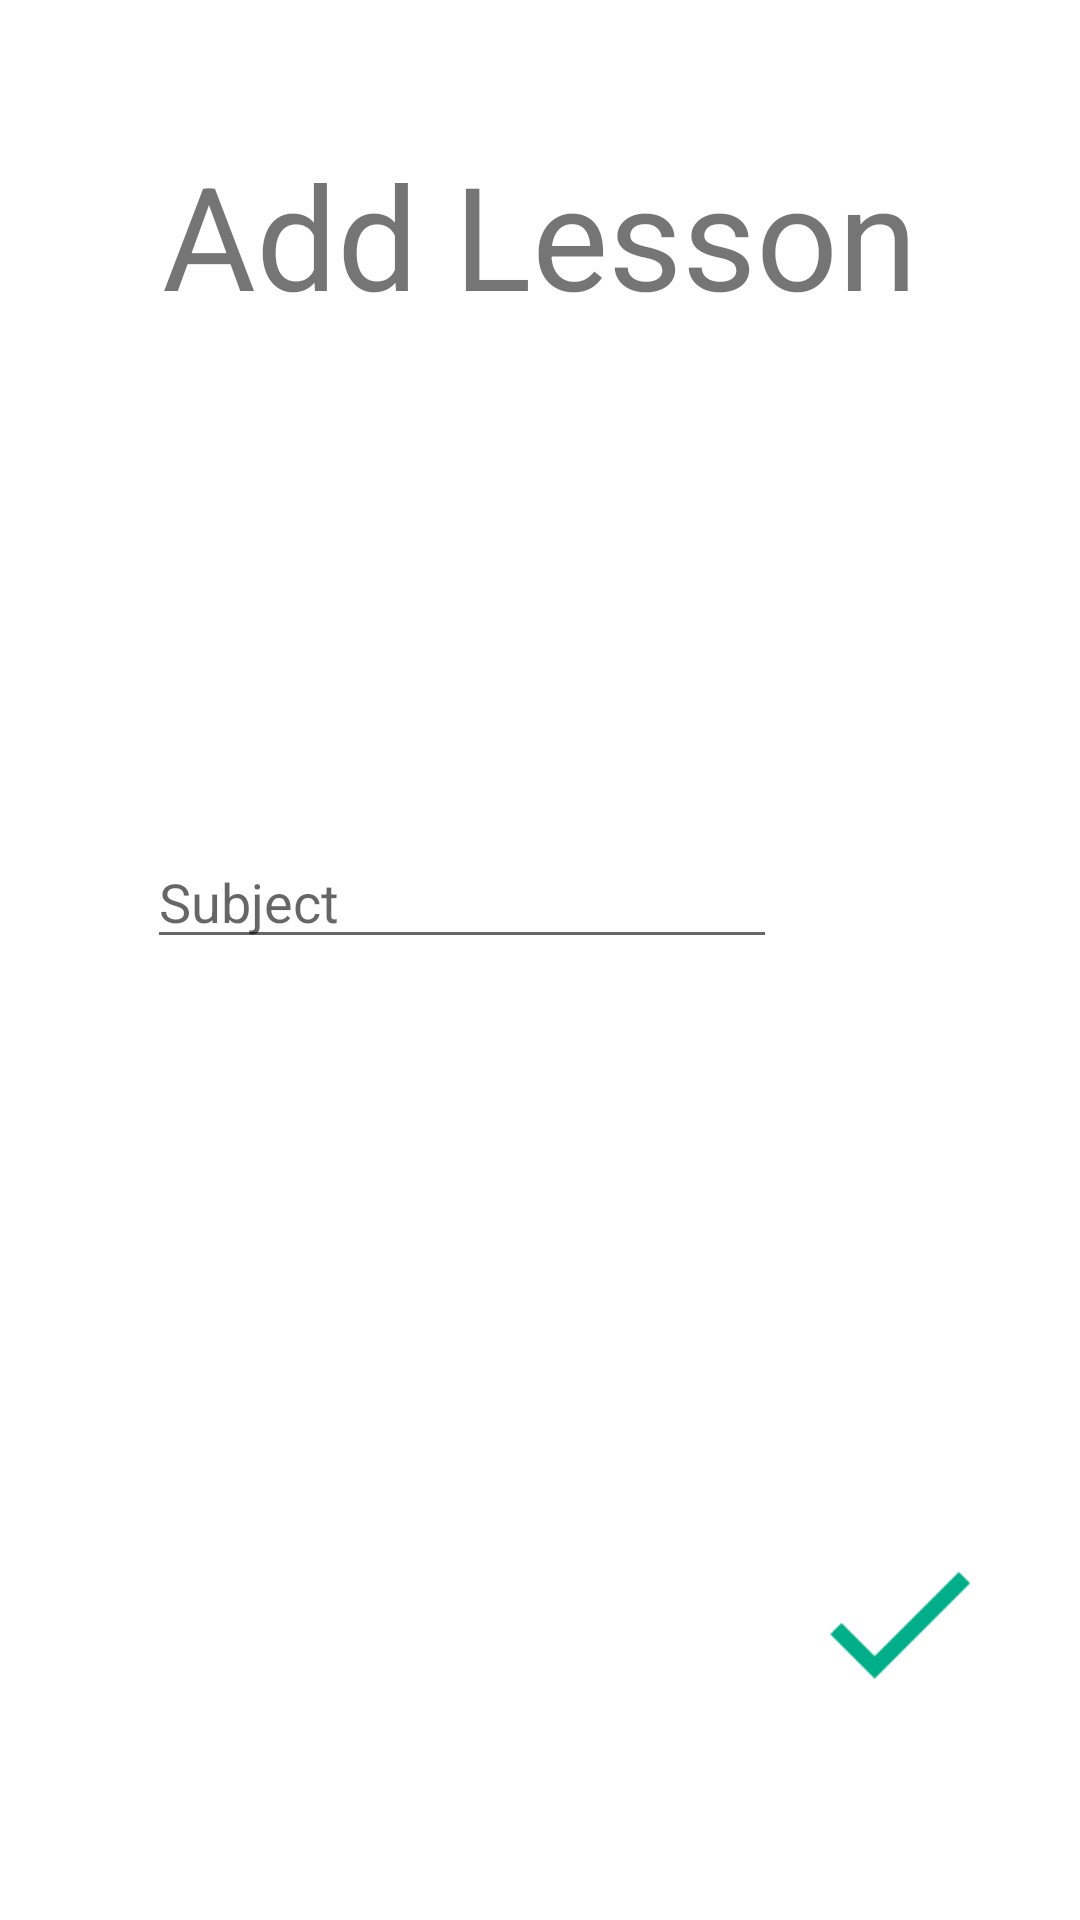

Locate icon controls on the screen. Image size 1080 × 1920, boxes as (x1, y1, x2, y2).
validate: (830, 1571, 970, 1679)
